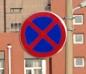No Parking: (22, 12, 68, 59)
